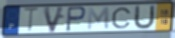C: (111, 7, 133, 30)
M: (86, 6, 111, 32)
P: (65, 6, 88, 33)
T: (22, 7, 41, 34)
U: (132, 4, 157, 31)
V: (42, 6, 67, 34)
